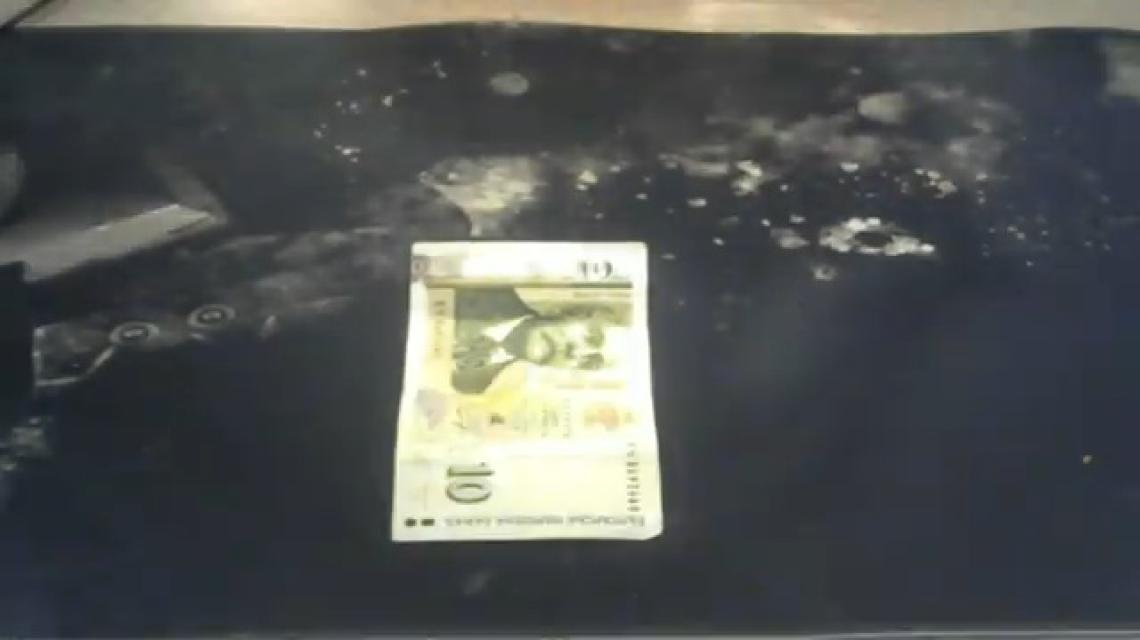10leva: (385, 240, 666, 548)
